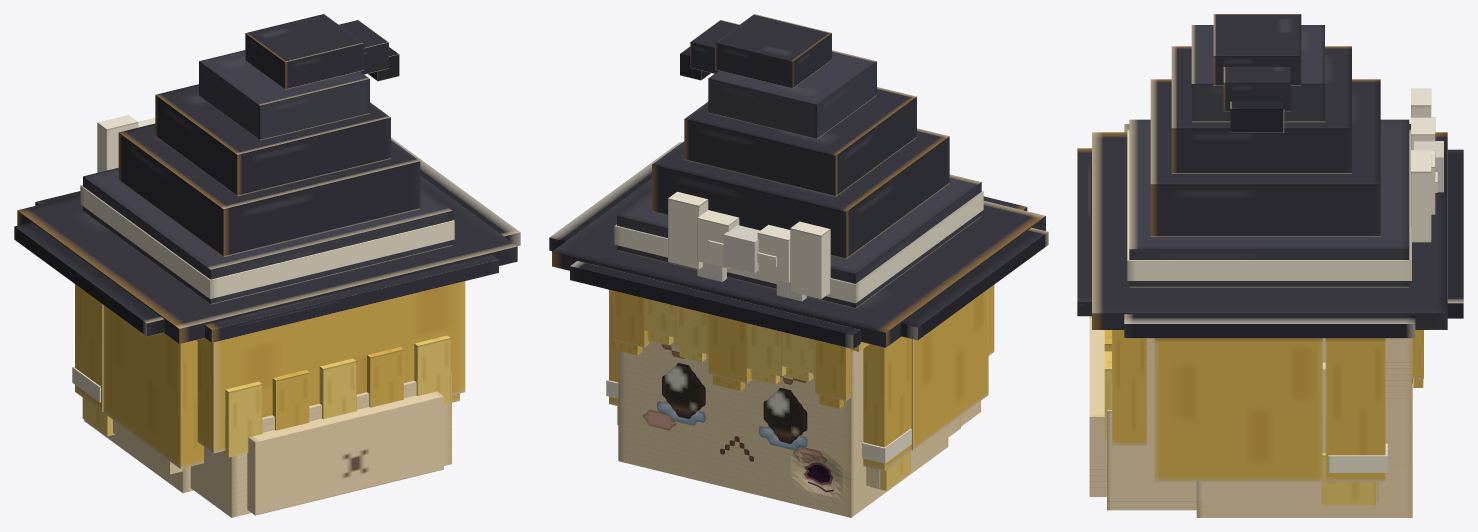
Rendered from tear_marisa_1.obj.
3 views of the same model, side by side, from view 1: azimuth 30°, elevation 25°; view 2: azimuth 150°, elevation 25°; view 3: azimuth 270°, elevation 25° (orthographic). The views are drawn at different scales.
Visible parts, largest first — view 1: tear_marisa_1; view 2: tear_marisa_1; view 3: tear_marisa_1.
Part boxes in pixels (box(x1,y1,x2,y2)): tear_marisa_1: box(14, 14, 520, 517); tear_marisa_1: box(549, 14, 1048, 517); tear_marisa_1: box(1077, 14, 1463, 517).
Size of the model in its own units: 19 by 19.34 by 15.53.
Materials: 1 (1 with a texture image).
